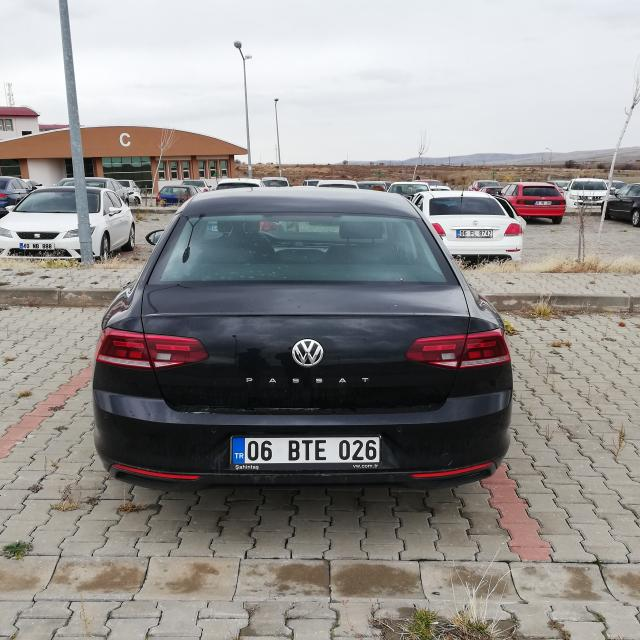license_plate: (232, 438, 381, 464), (457, 230, 493, 236), (19, 243, 54, 249)
